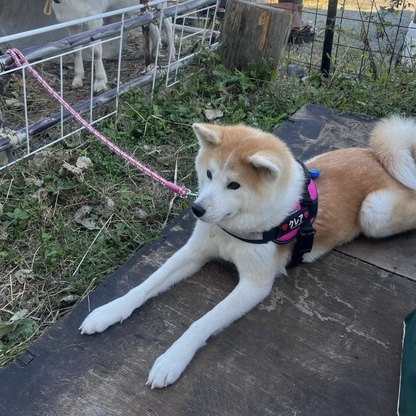akita: (71, 109, 416, 392)
